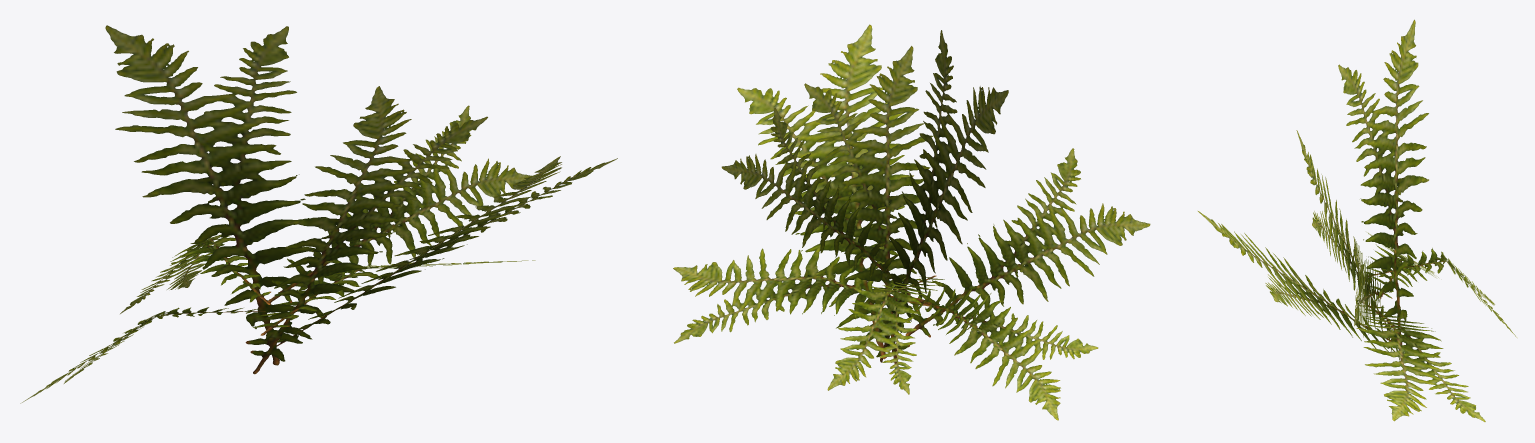
File: plants_k002_a.FBX
3 views of the same model, side by side, from view 1: azimuth 30°, elevation 25°; view 2: azimuth 150°, elevation 25°; view 3: azimuth 270°, elevation 25° (orthographic). The views are drawn at different scales.
Visible parts, largest first — view 1: plants_k002_a; view 2: plants_k002_a; view 3: plants_k002_a.
Part boxes in pixels (x1=…): plants_k002_a: x1=20, y1=25, x2=617, y2=403; plants_k002_a: x1=673, y1=24, x2=1150, y2=420; plants_k002_a: x1=1198, y1=19, x2=1516, y2=421.
Size of the model in its own units: 5.41 by 4.23 by 3.95.
1 material, 1 textured.
